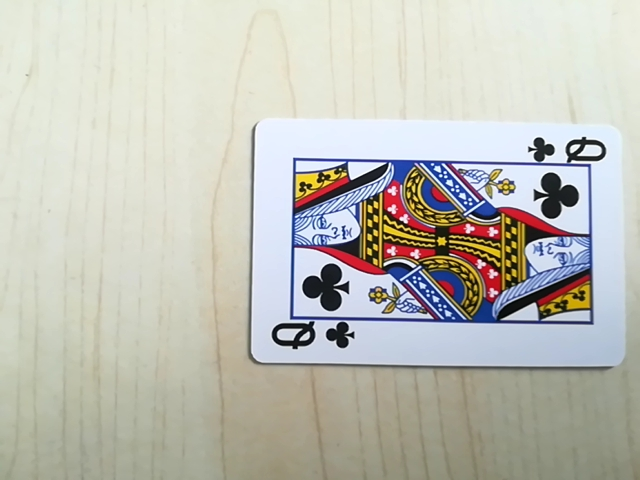mh q: (265, 316, 356, 359), (531, 131, 609, 167)
